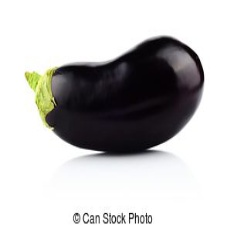eggplant: (35, 37, 206, 155)
